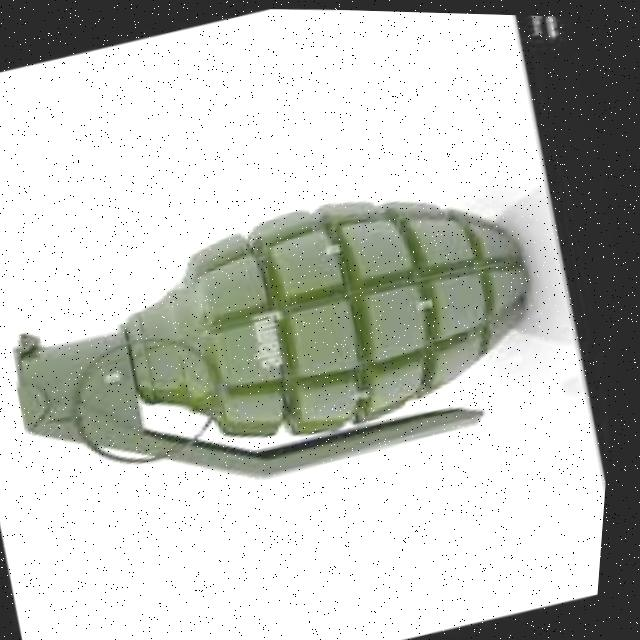grenade: (0, 137, 594, 536)
